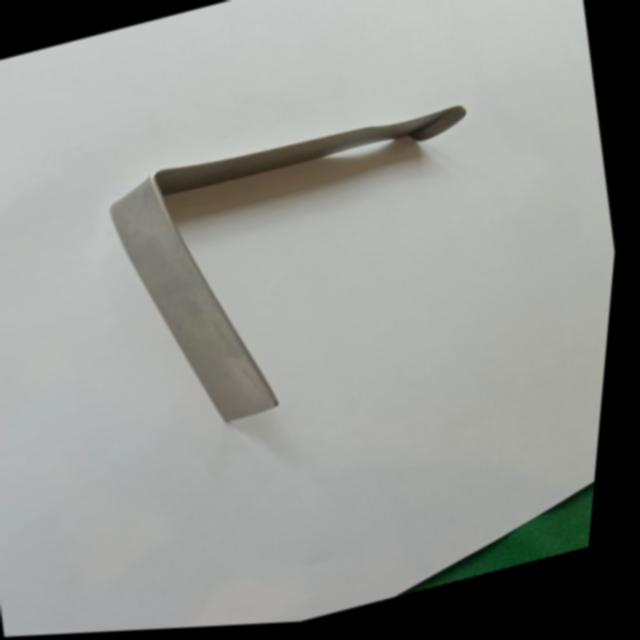AustinRetractor: (80, 85, 536, 461)
